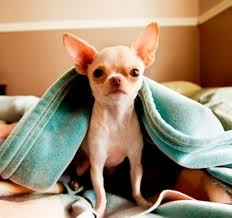chihuahua: (45, 12, 167, 218)
